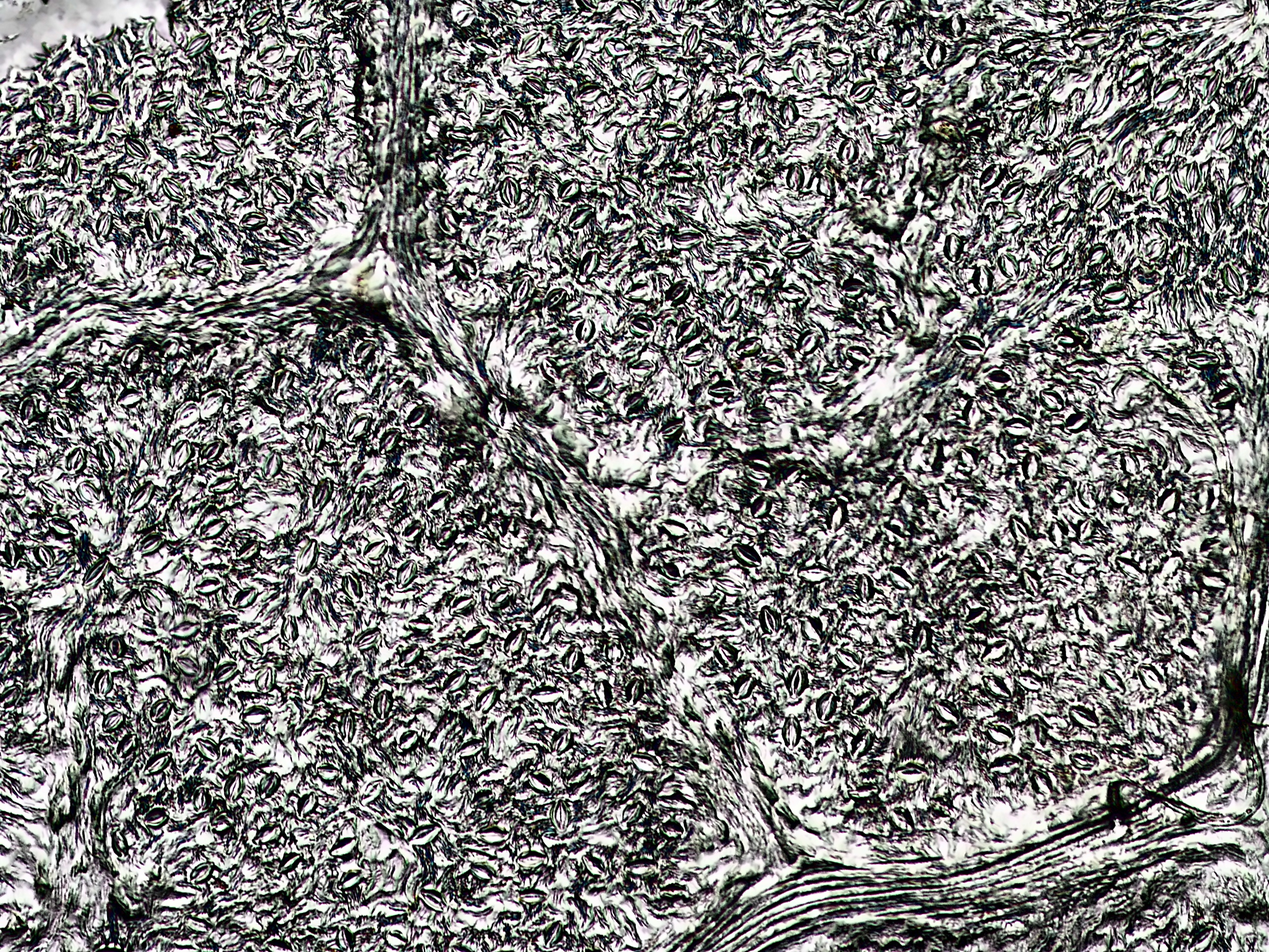stomata: (79, 555, 109, 588), (125, 481, 155, 513), (1113, 554, 1146, 583), (550, 798, 576, 833), (297, 539, 321, 576), (1137, 662, 1167, 691), (5, 256, 30, 290), (1236, 71, 1258, 108), (737, 50, 766, 78), (259, 449, 285, 480), (417, 887, 449, 912), (500, 108, 524, 141), (1053, 332, 1086, 356), (501, 627, 527, 657), (889, 803, 915, 833), (87, 89, 118, 114), (561, 643, 586, 674), (168, 437, 190, 472), (578, 248, 600, 283), (1003, 91, 1038, 113), (627, 357, 659, 381), (312, 475, 333, 511), (732, 540, 760, 567), (712, 575, 748, 596), (1154, 487, 1180, 516), (585, 127, 615, 152), (982, 675, 1012, 700), (881, 473, 906, 503), (303, 421, 325, 455), (304, 672, 328, 703), (1215, 120, 1238, 152), (144, 208, 165, 243), (779, 237, 814, 258), (782, 715, 803, 750), (632, 65, 659, 92), (200, 390, 226, 418), (462, 624, 491, 649), (875, 0, 900, 29), (1070, 704, 1100, 728), (407, 825, 441, 846), (476, 824, 510, 845), (602, 36, 633, 59), (550, 726, 572, 758), (1209, 387, 1241, 409), (353, 626, 380, 652), (1155, 76, 1182, 102), (1090, 183, 1115, 211), (1202, 197, 1222, 232), (198, 88, 227, 112), (208, 474, 241, 495), (396, 558, 417, 591), (531, 684, 564, 705), (467, 35, 500, 56), (632, 751, 662, 774), (800, 614, 823, 644), (1072, 29, 1110, 47), (135, 532, 166, 554), (342, 570, 364, 601), (1223, 264, 1245, 295), (982, 368, 1013, 390), (658, 794, 698, 811), (1183, 160, 1203, 194), (895, 761, 929, 781), (1028, 715, 1048, 749), (119, 344, 145, 370), (363, 536, 389, 562), (173, 402, 198, 429), (567, 204, 594, 229), (79, 478, 103, 506), (615, 175, 643, 199), (799, 562, 831, 583), (475, 685, 498, 714), (467, 860, 496, 883), (779, 98, 802, 127), (928, 795, 957, 818), (1187, 351, 1222, 370), (329, 834, 359, 856), (626, 858, 659, 878), (779, 281, 809, 303), (116, 386, 147, 407), (500, 176, 521, 207), (826, 503, 847, 534), (879, 520, 910, 541), (185, 34, 211, 59), (49, 409, 74, 435), (346, 415, 372, 440), (189, 859, 215, 884), (277, 849, 303, 874), (452, 253, 478, 278), (888, 564, 914, 589), (1101, 668, 1127, 693), (444, 668, 468, 695), (1204, 68, 1223, 102), (526, 770, 554, 793), (1038, 389, 1066, 412), (95, 209, 115, 241), (224, 771, 244, 803), (48, 241, 70, 270), (980, 640, 1009, 662), (1070, 750, 1099, 772), (1109, 740, 1138, 762), (373, 690, 394, 720), (513, 275, 534, 305), (293, 117, 319, 141), (254, 823, 280, 847), (850, 77, 876, 101), (794, 329, 818, 355), (406, 404, 433, 427), (143, 805, 170, 828), (714, 643, 741, 666), (835, 648, 862, 671), (61, 153, 81, 184), (255, 664, 275, 695), (273, 368, 293, 399), (1063, 136, 1094, 156), (659, 517, 690, 537), (353, 487, 375, 515), (258, 771, 280, 799), (709, 380, 737, 402), (878, 306, 900, 334), (593, 679, 614, 708), (1062, 410, 1091, 431), (1078, 598, 1099, 627), (761, 604, 780, 636), (1198, 570, 1230, 589), (789, 665, 808, 697), (26, 191, 46, 221), (199, 438, 223, 463), (196, 736, 220, 761), (192, 784, 212, 814), (518, 849, 548, 869), (544, 920, 564, 950), (994, 212, 1024, 232), (1043, 246, 1068, 270), (1003, 417, 1033, 437), (816, 691, 836, 721), (380, 428, 403, 454), (360, 779, 383, 805), (666, 280, 689, 306), (124, 137, 151, 159), (145, 753, 172, 775), (682, 23, 700, 56), (750, 134, 772, 161), (679, 345, 712, 363), (1040, 106, 1058, 139), (1150, 176, 1172, 203), (1226, 182, 1248, 209), (998, 252, 1020, 279), (913, 621, 931, 654), (1000, 39, 1031, 58), (671, 230, 702, 249), (224, 178, 252, 199), (972, 545, 993, 573), (625, 676, 645, 705), (457, 737, 486, 757), (576, 316, 596, 345), (747, 404, 776, 424), (520, 75, 544, 99), (520, 33, 543, 58), (677, 317, 700, 342), (748, 259, 771, 284), (750, 495, 773, 520), (747, 456, 772, 479), (149, 90, 175, 112), (246, 9, 272, 31), (258, 42, 284, 64), (189, 253, 215, 275), (577, 82, 603, 104), (558, 175, 580, 201), (542, 288, 568, 310), (629, 315, 655, 337), (735, 335, 761, 357), (719, 295, 741, 321), (49, 516, 79, 535), (1022, 449, 1041, 479), (339, 710, 356, 743), (835, 0, 868, 17), (989, 756, 1022, 773), (140, 587, 160, 615), (1120, 448, 1140, 476), (1048, 521, 1068, 549), (1017, 671, 1045, 691), (986, 722, 1014, 742), (279, 612, 297, 643), (161, 176, 185, 199), (434, 524, 458, 547), (385, 926, 408, 950), (977, 163, 1000, 187), (1085, 244, 1109, 267), (246, 71, 265, 100), (211, 134, 240, 153), (96, 439, 115, 468), (520, 887, 549, 906), (269, 178, 291, 203), (945, 11, 966, 37), (541, 357, 562, 383), (657, 417, 683, 438), (838, 138, 859, 164), (1002, 178, 1023, 204), (114, 828, 131, 860), (28, 142, 46, 172), (64, 446, 84, 473), (231, 587, 258, 607), (170, 620, 200, 638), (656, 122, 686, 140), (956, 335, 986, 353), (442, 208, 461, 236), (714, 92, 742, 111), (1101, 283, 1129, 302), (943, 233, 962, 261), (40, 479, 63, 502), (623, 392, 646, 415), (213, 661, 237, 683), (429, 488, 451, 512), (1049, 202, 1071, 226), (445, 124, 476, 141), (235, 540, 260, 561), (0, 683, 21, 708), (409, 614, 434, 635), (450, 595, 475, 616), (935, 700, 960, 721), (296, 46, 314, 75), (0, 205, 18, 234), (239, 212, 268, 230), (241, 705, 270, 723), (661, 882, 690, 900), (200, 519, 226, 539), (621, 802, 641, 828), (1156, 134, 1176, 160), (106, 634, 125, 661), (606, 638, 625, 665), (619, 1, 646, 20), (762, 359, 789, 378), (840, 280, 867, 299), (851, 728, 870, 755), (1023, 565, 1039, 597), (857, 573, 874, 603), (102, 710, 125, 732), (150, 698, 172, 721), (339, 870, 362, 892), (587, 372, 610, 394), (305, 169, 326, 193), (34, 543, 55, 567), (94, 667, 112, 695), (355, 340, 376, 364), (565, 39, 586, 63), (823, 47, 851, 65), (710, 132, 728, 160), (736, 672, 754, 700), (567, 765, 592, 785), (471, 790, 496, 810), (1108, 487, 1133, 507), (20, 393, 36, 424), (109, 172, 135, 191), (298, 791, 315, 820), (844, 346, 873, 363), (195, 577, 222, 595), (928, 41, 946, 68), (787, 163, 805, 190), (57, 368, 79, 390), (852, 693, 874, 715), (492, 586, 513, 609), (898, 86, 921, 107), (816, 174, 837, 197), (1033, 770, 1054, 793), (176, 655, 200, 675), (241, 637, 265, 657), (764, 0, 794, 16), (4, 538, 21, 566), (1173, 246, 1190, 274), (1010, 516, 1029, 541), (794, 58, 812, 84), (1108, 631, 1134, 649), (1141, 31, 1170, 47), (401, 518, 423, 539), (280, 226, 303, 246), (388, 484, 408, 507), (583, 855, 606, 875), (338, 925, 355, 952), (974, 266, 991, 293), (626, 283, 650, 302), (1178, 639, 1202, 658), (1076, 516, 1094, 541), (659, 822, 687, 838), (849, 783, 877, 799), (401, 643, 421, 665), (959, 446, 979, 468), (317, 761, 340, 780), (965, 607, 988, 626), (265, 937, 294, 952), (579, 0, 610, 14), (639, 235, 661, 254), (119, 732, 136, 756), (1127, 64, 1148, 83), (873, 39, 891, 61), (399, 730, 418, 749), (860, 175, 880, 193), (33, 98, 50, 119), (873, 129, 897, 142), (0, 639, 12, 661)
